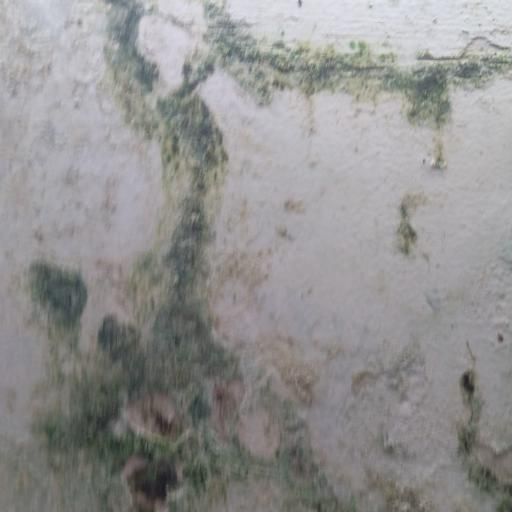algae: (16, 55, 334, 431)
